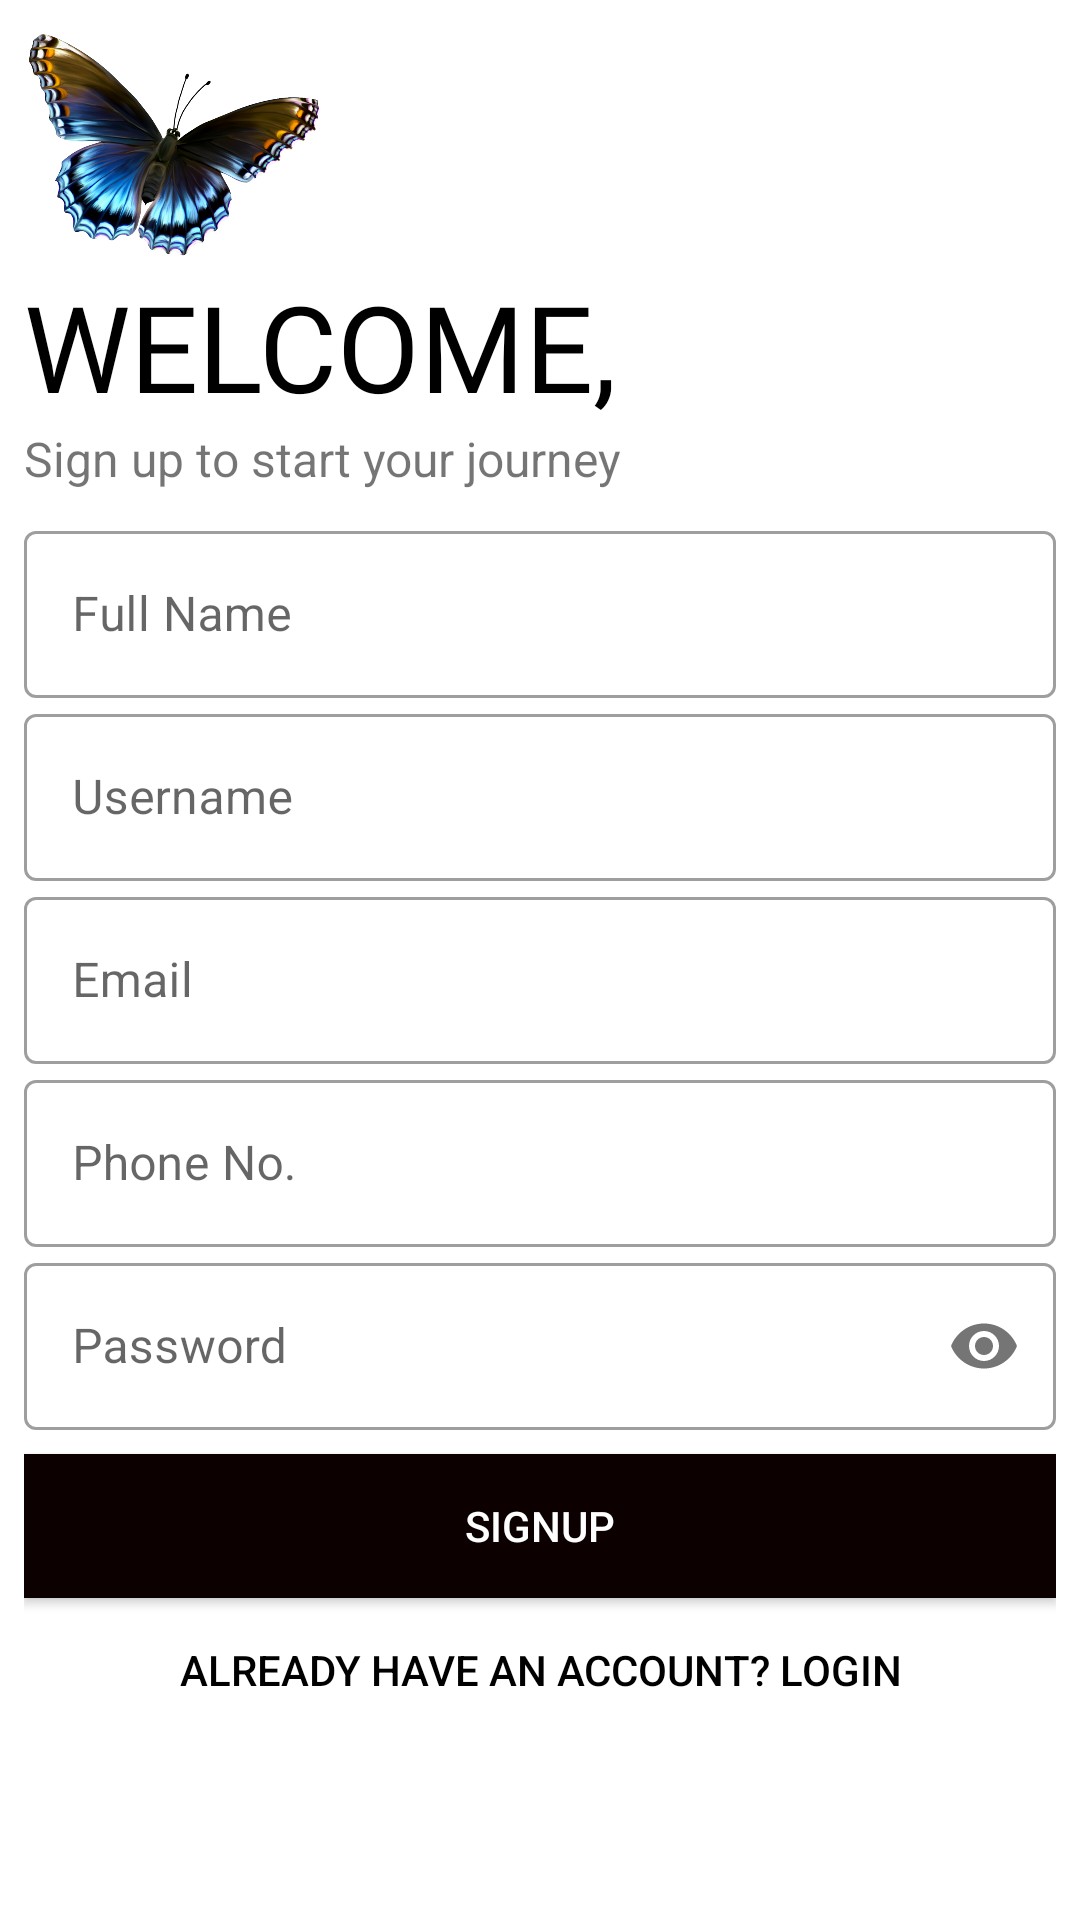

Named icons in this screenshot (1080px x 1920px) and their bounding boxes, Rect(x1, y1, x2, y2):
butterfly: Rect(29, 34, 319, 255)
